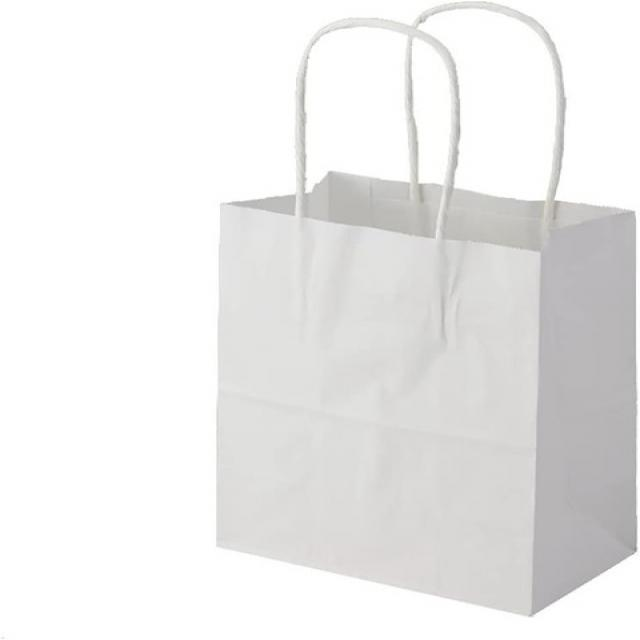paper bag: (206, 0, 640, 618)
